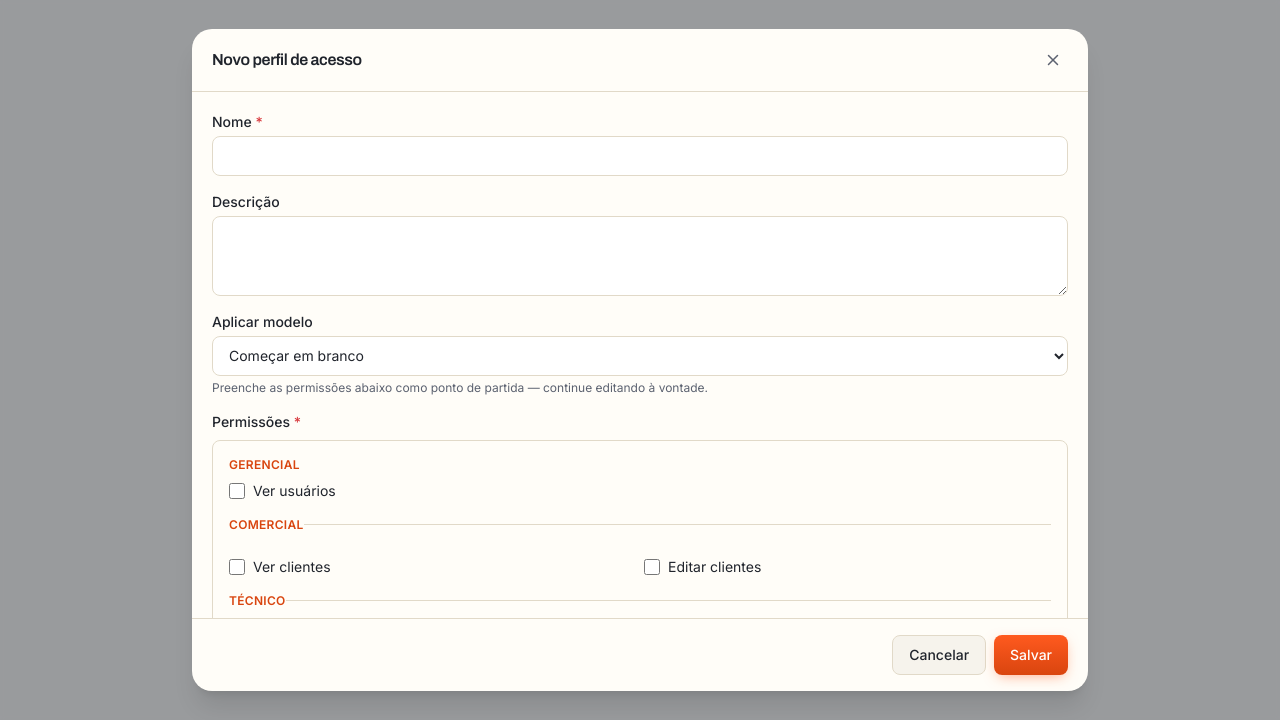
Test: PerfilFormModal › applies the ADMIN preset by checking every available permission
Select "Administrador — acesso total" in the dropdown labelled "Aplicar modelo" at (640, 356), box top-left (212, 336), bottom-right (1068, 376)
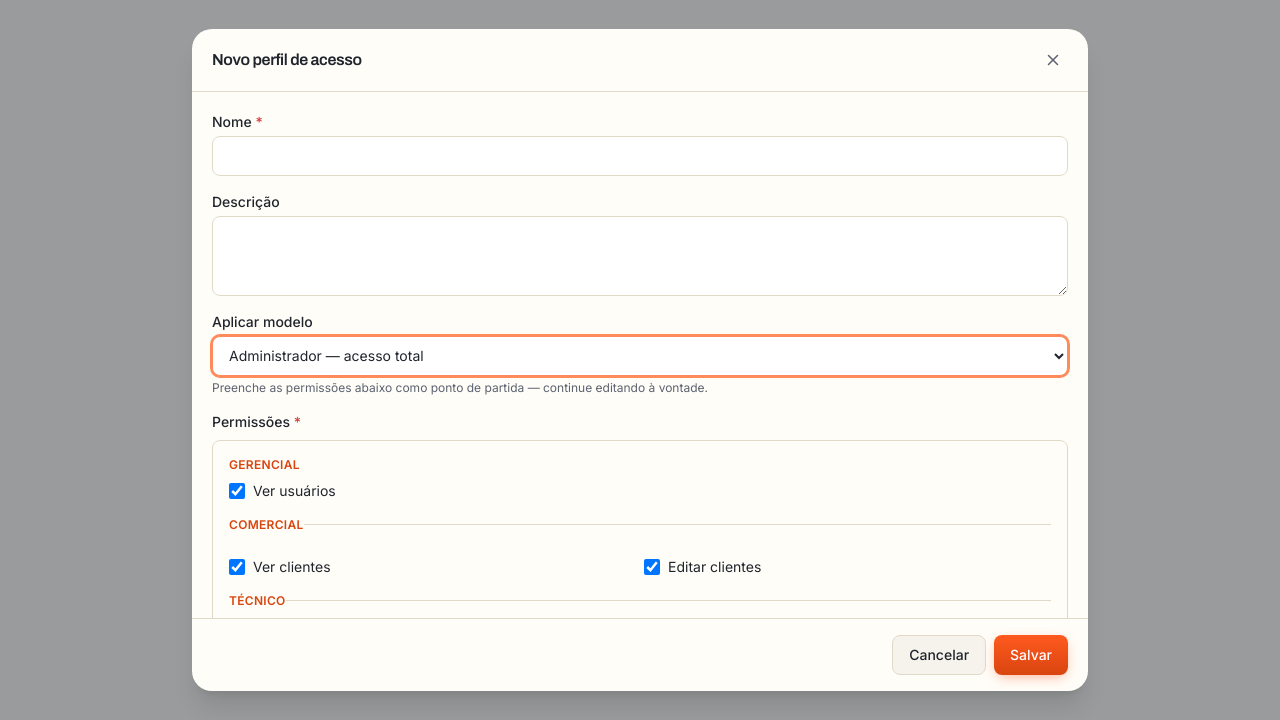
Expected: the checkbox labelled "Ver clientes" is checked, top-left (229, 559), bottom-right (245, 575)
Expected: the checkbox labelled "Editar clientes" is checked, top-left (644, 559), bottom-right (660, 575)
